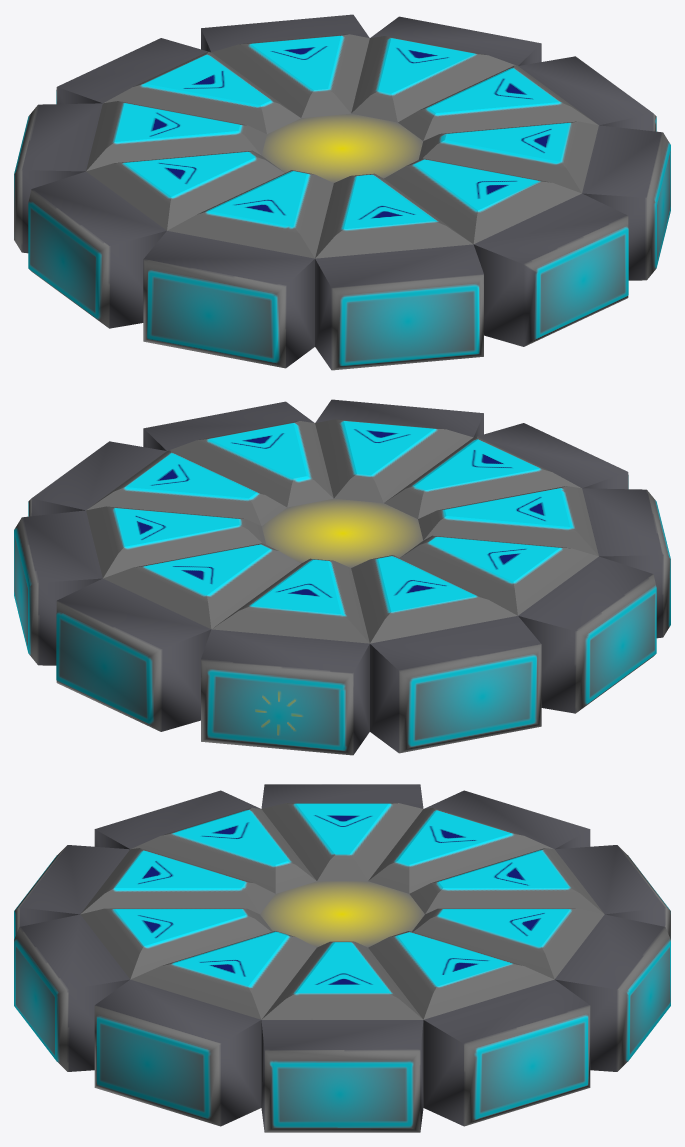
The model's file is SM_Props_33.fbx.
The picture shows the model from 3 angles, top to bottom: view 1: azimuth 30°, elevation 25°; view 2: azimuth 150°, elevation 25°; view 3: azimuth 270°, elevation 25°; orthographic projection.
Visible parts, largest first — view 1: SM_Props_33; view 2: SM_Props_33; view 3: SM_Props_33.
Part boxes in pixels (x1,y1,x2,y2): SM_Props_33: [14, 14, 670, 370]; SM_Props_33: [14, 399, 670, 755]; SM_Props_33: [14, 784, 670, 1132].
Bounding box in the file's own units: 36.83 × 37.45 × 6.54.
